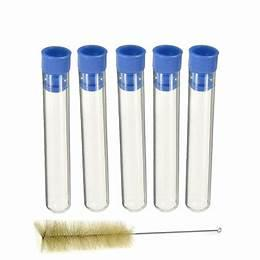Test tube: (76, 38, 110, 217), (185, 27, 211, 213), (39, 48, 69, 207), (151, 38, 174, 221), (121, 40, 144, 213)
